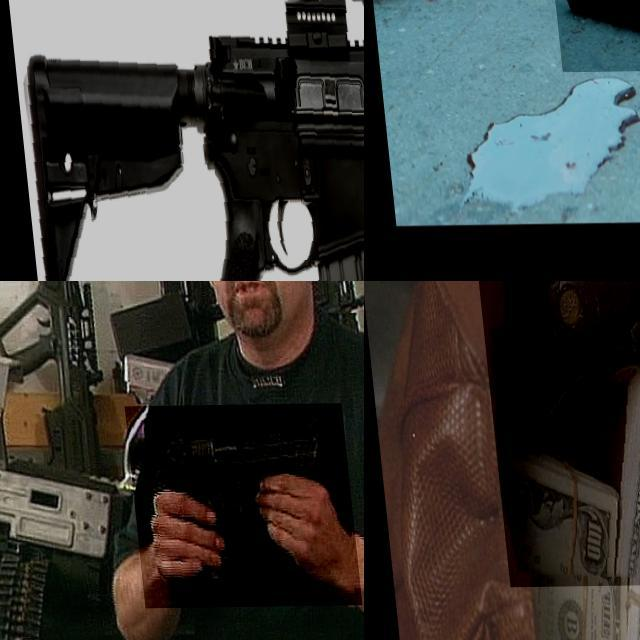gun-knife-thesis - v11 Yolov5 augmented: (0, 0, 364, 281), (456, 281, 640, 587), (118, 405, 352, 609)
